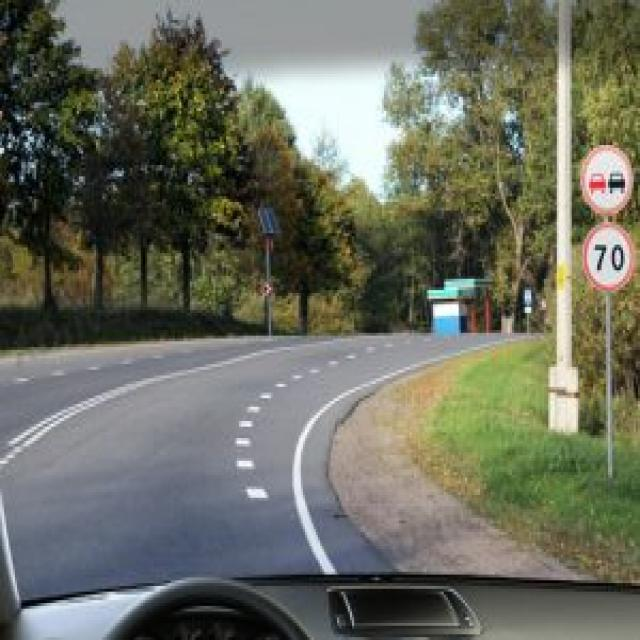no overtaking: (578, 142, 637, 219)
